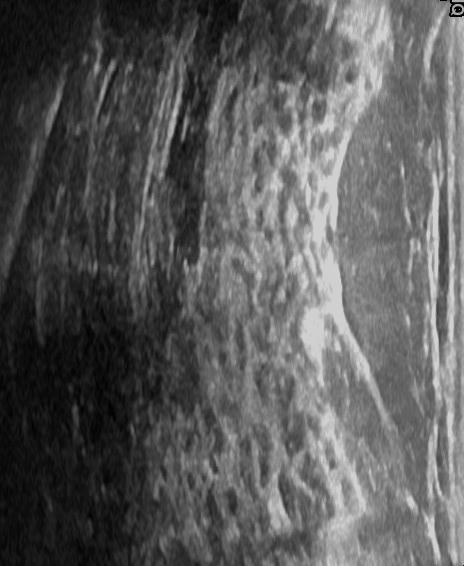Normal: (20, 0, 440, 562)
